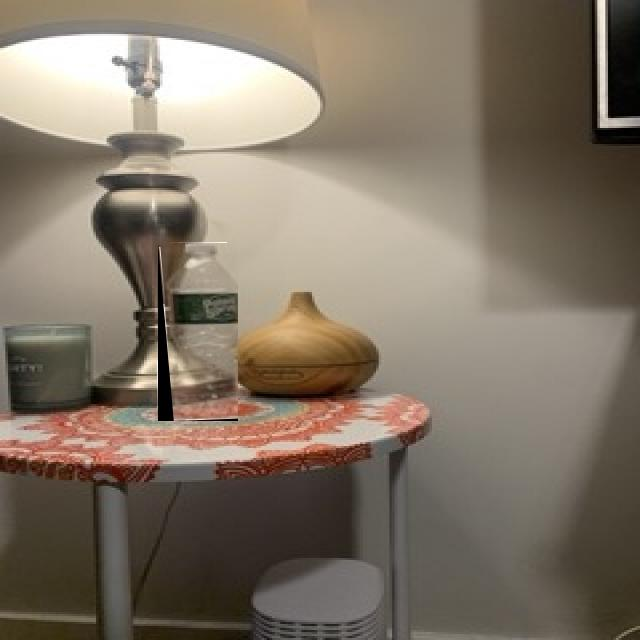water_bottle: (158, 243, 238, 421)
